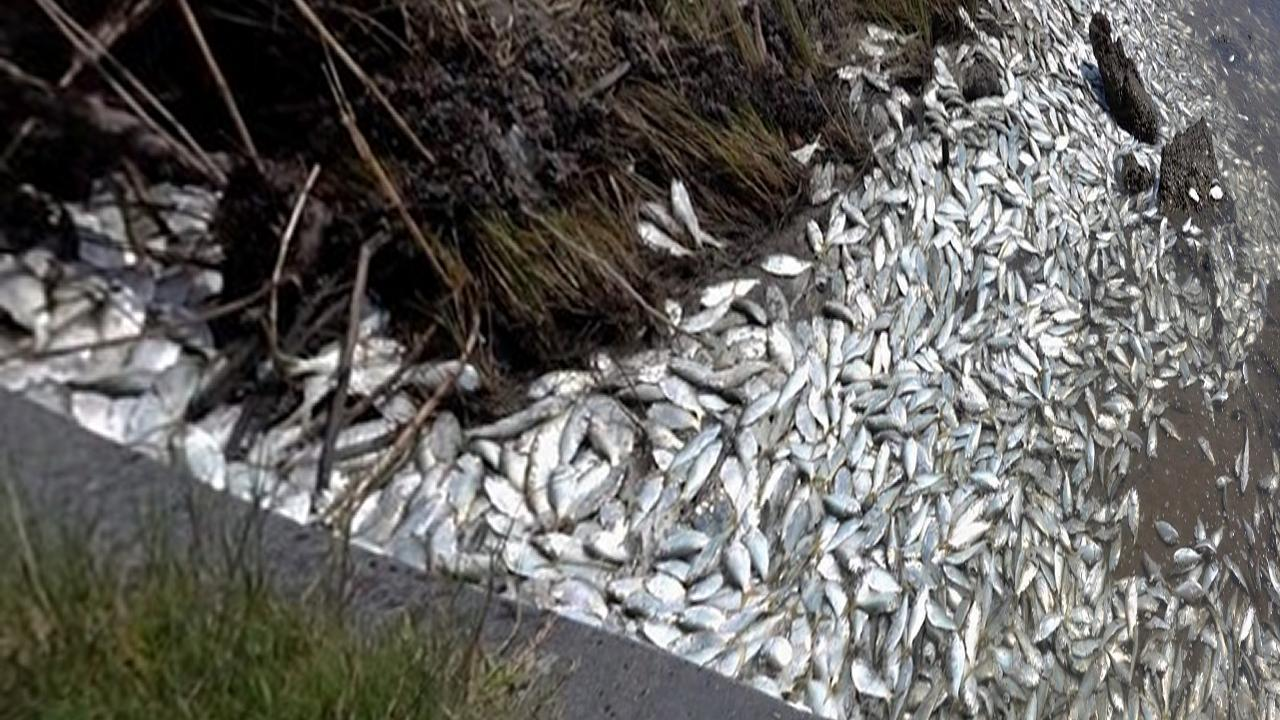Dead Animals Pollution: (644, 349, 1280, 720)
